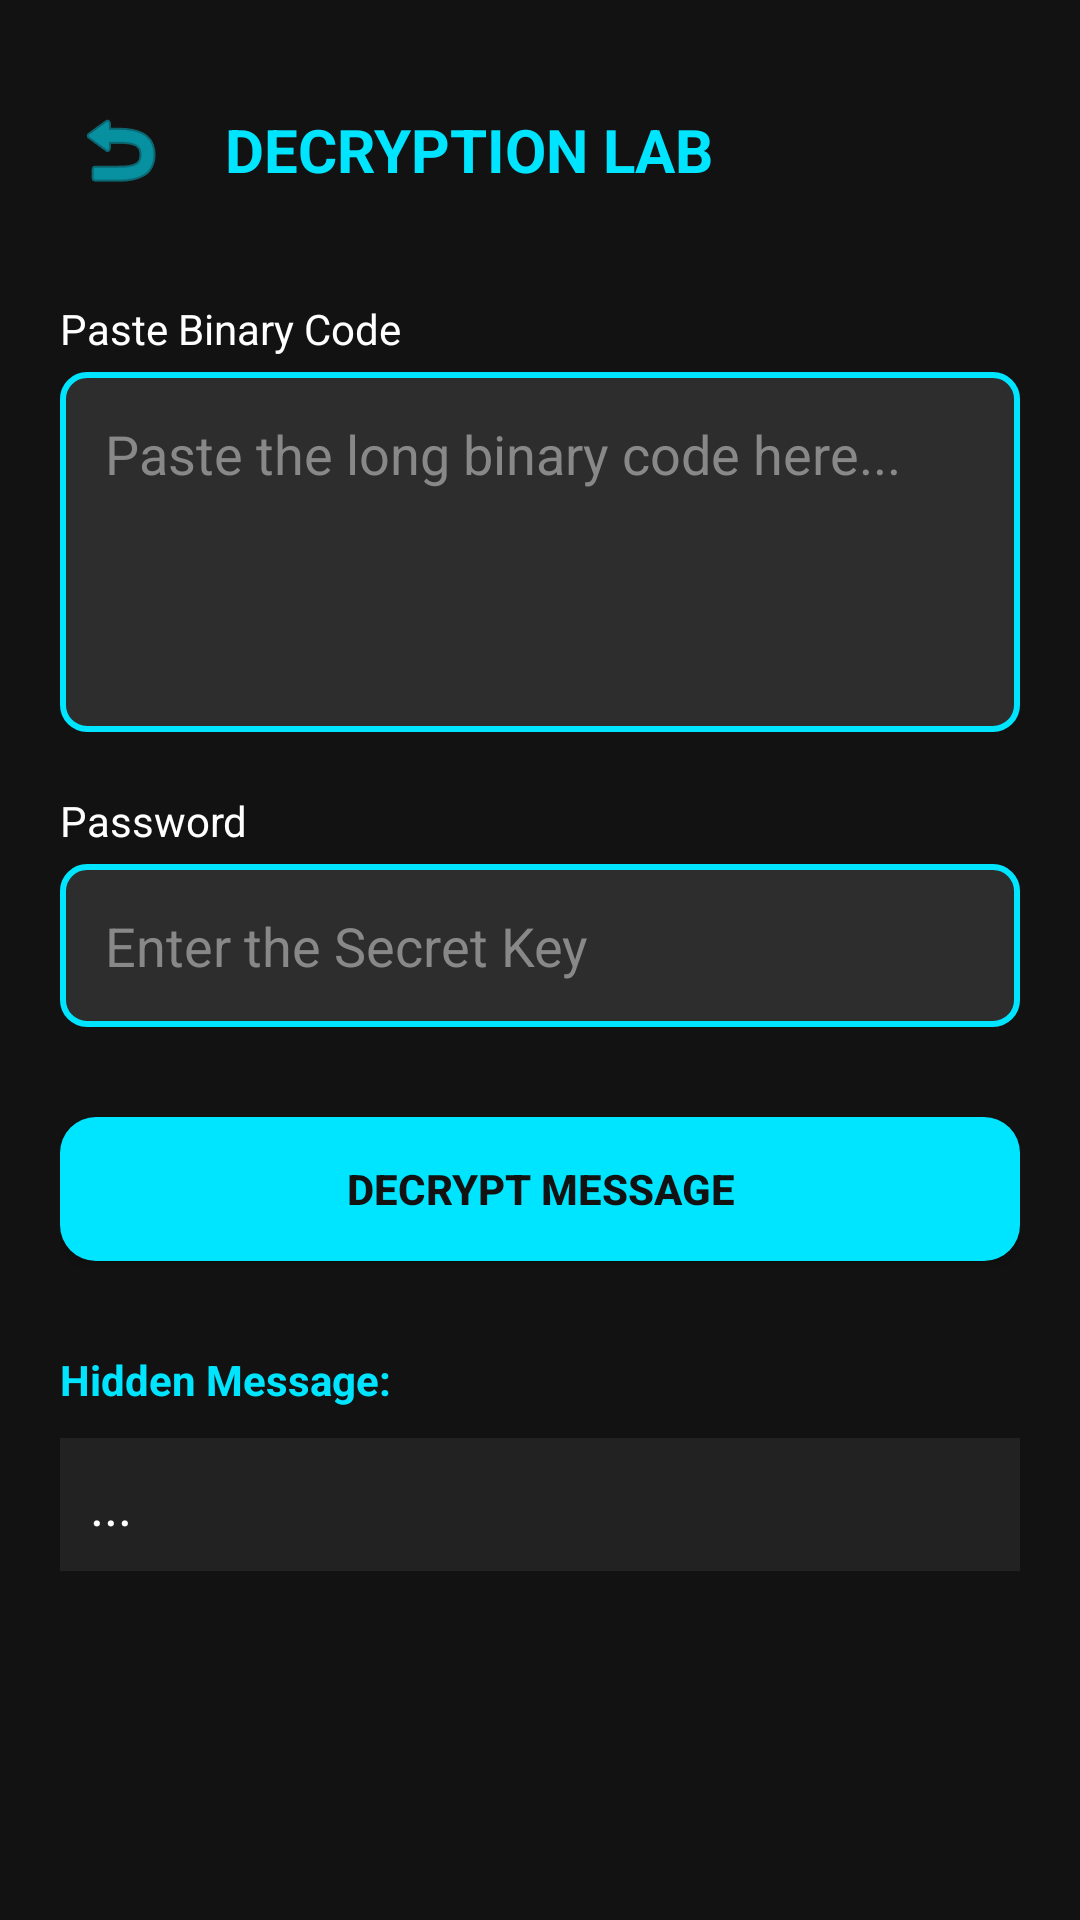

Icons on this 1080*1920 Android screen, each with its box as (x1, y1, x2, y2):
revert: (87, 119, 156, 182)
